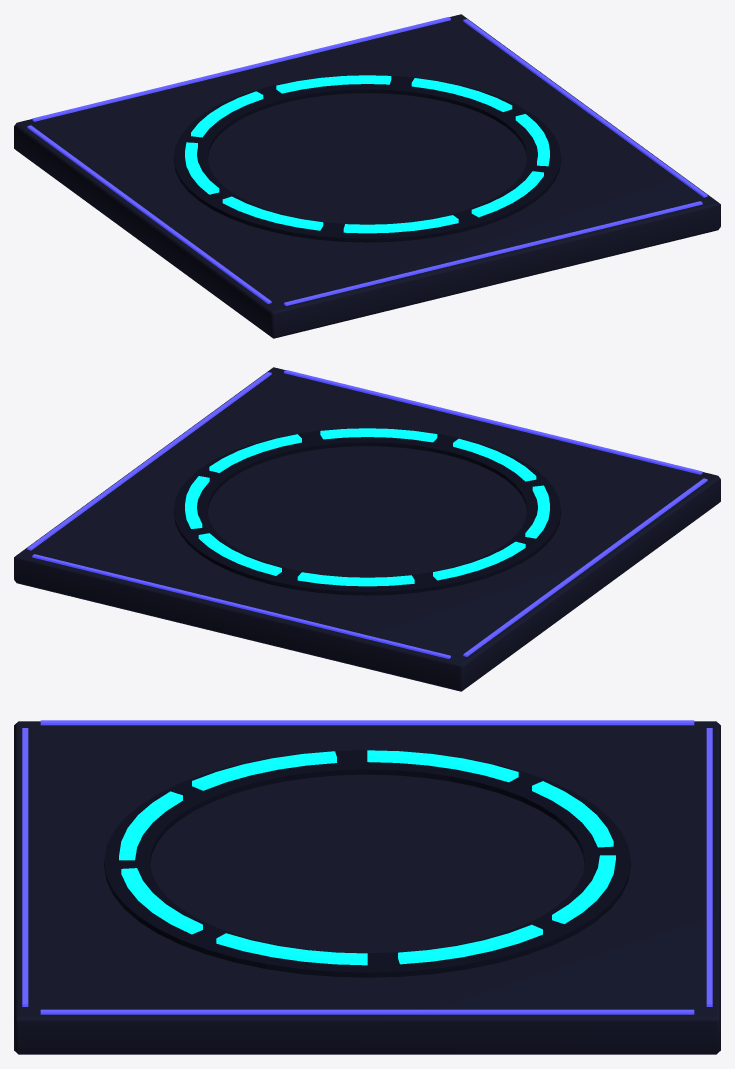
The model's file is NT_Floor_Spawn_Cyan.fbx.
The picture shows the model from 3 angles, top to bottom: view 1: azimuth 30°, elevation 25°; view 2: azimuth 150°, elevation 25°; view 3: azimuth 270°, elevation 25°; orthographic projection. The views are drawn at different scales.
Visible parts, largest first — view 1: NT_Floor_Spawn_Cyan__FloorMesh; view 2: NT_Floor_Spawn_Cyan__FloorMesh; view 3: NT_Floor_Spawn_Cyan__FloorMesh.
Boxes of the visible parts, box(x1,y1,x2,y2) form: NT_Floor_Spawn_Cyan__FloorMesh: box(14, 14, 720, 338); NT_Floor_Spawn_Cyan__FloorMesh: box(14, 367, 720, 691); NT_Floor_Spawn_Cyan__FloorMesh: box(14, 720, 720, 1054).
Size of the model in its own units: 2 by 0.162 by 2.
